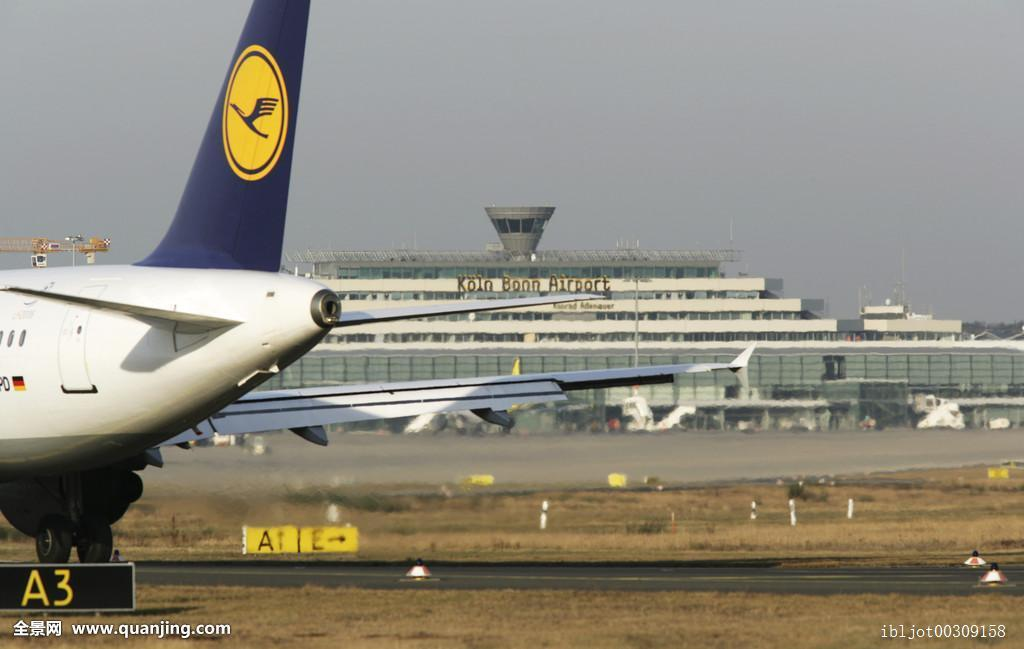airplane: (1, 4, 342, 566)
